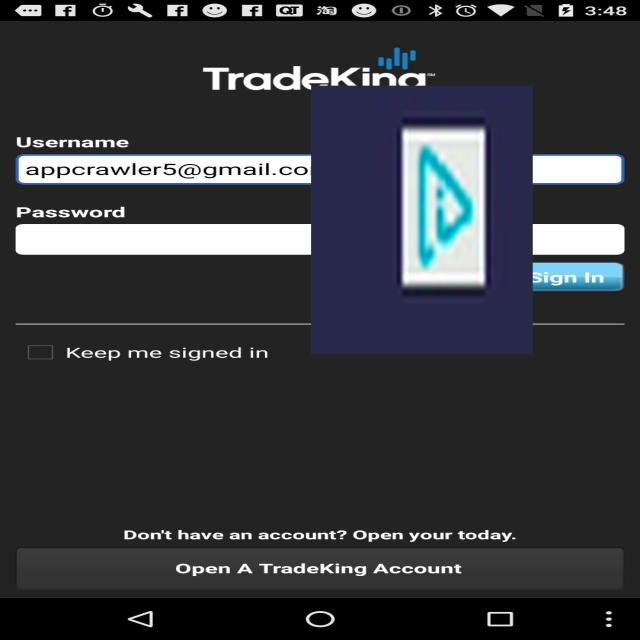sneaking: (311, 86, 533, 354)
